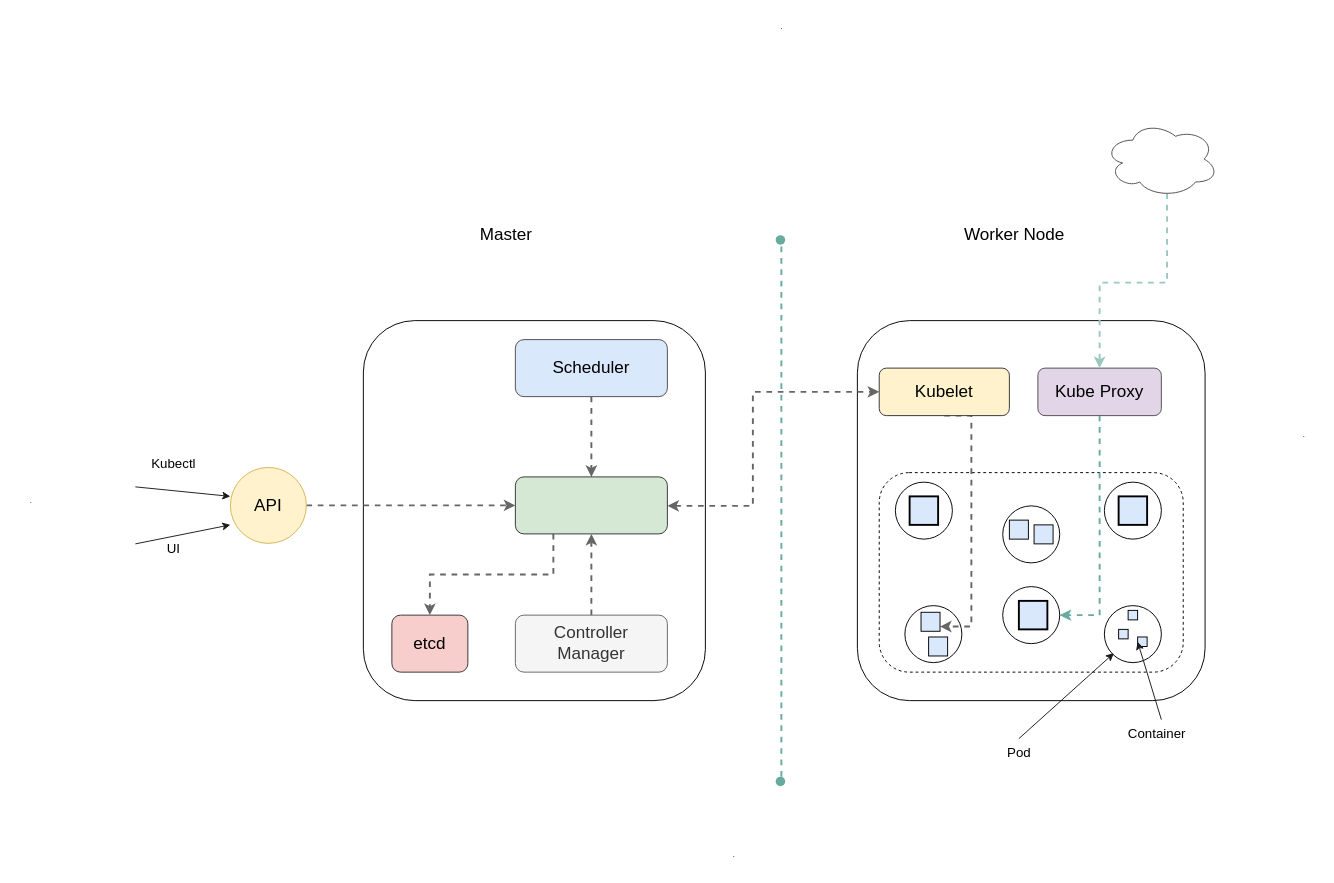
Image size: 1334x883. Some labels were removed from this diagram. Each missing label, with the box of its shape:
API Server: (514, 476, 667, 534)
Internet: (1103, 120, 1218, 197)
